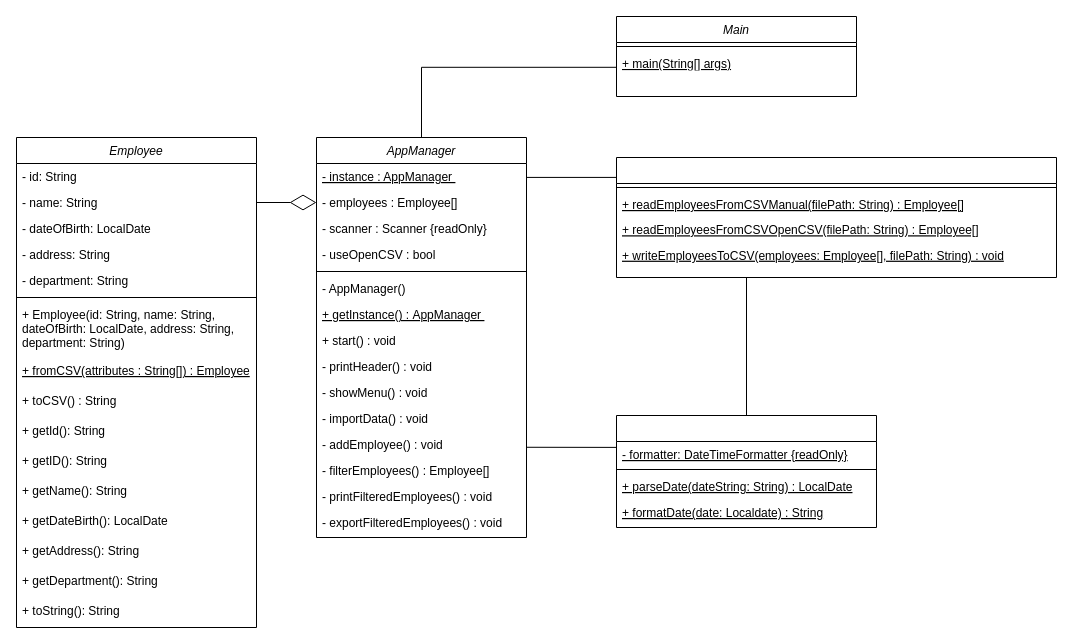
The diagram is 1073 pixels wide and 644 high, and some of its shapes have lost their labels. The shapes that lost their labels are listed below. From the top down, each one's box as (x1, y1, x2, y2) in pixels, then its label:
(616, 156, 1056, 278): FileUtils
(616, 414, 876, 528): DateUtils
